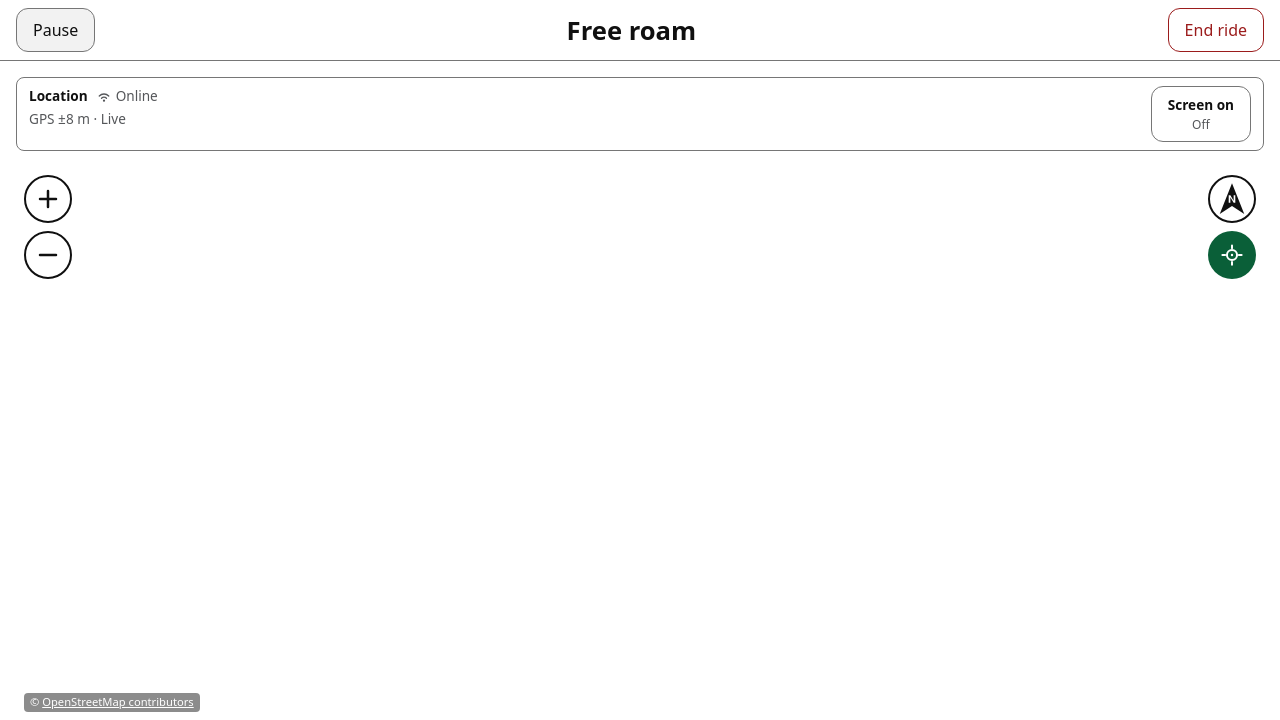
Test: FreeRoamScreen End ride › shows a failed End's error on its own row directly beneath the header, outside End's slot (backlog item 139)
The image size is (1280, 720).
Click the button "End ride".
click(1216, 30)  # box [1168,8,1264,52]
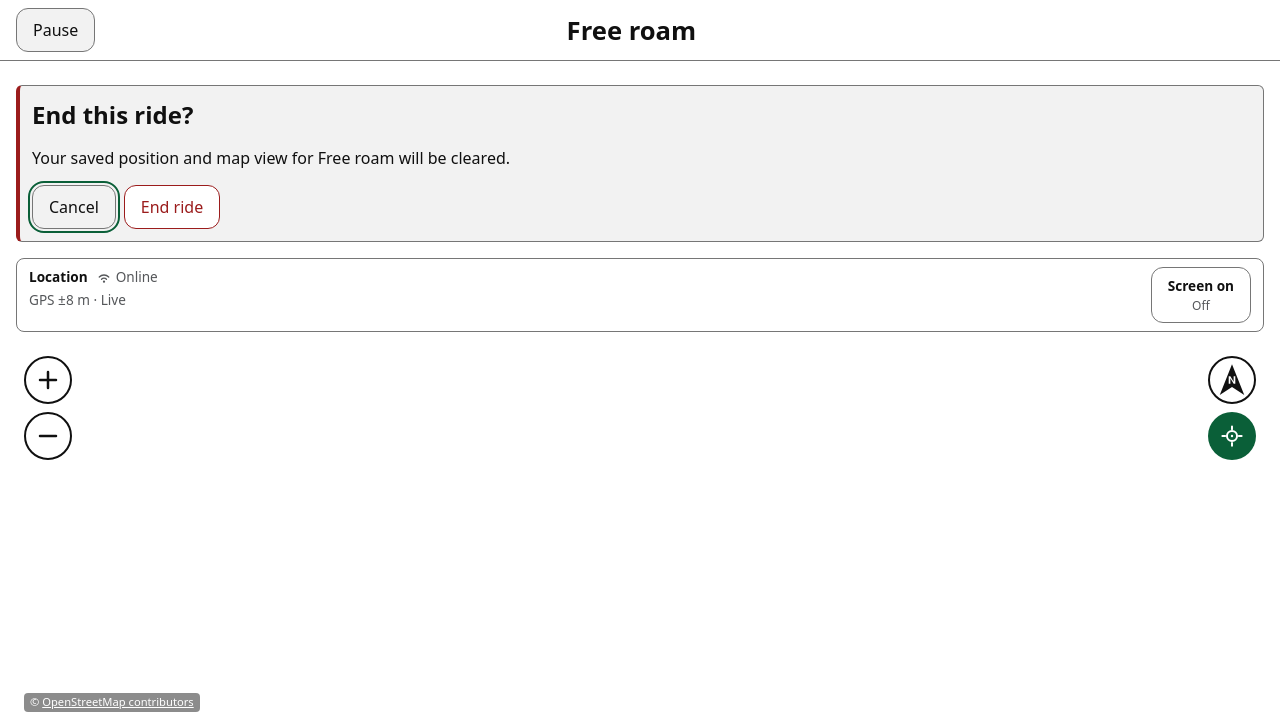
Click the button "End ride".
click(172, 207)  # box [124,185,220,229]
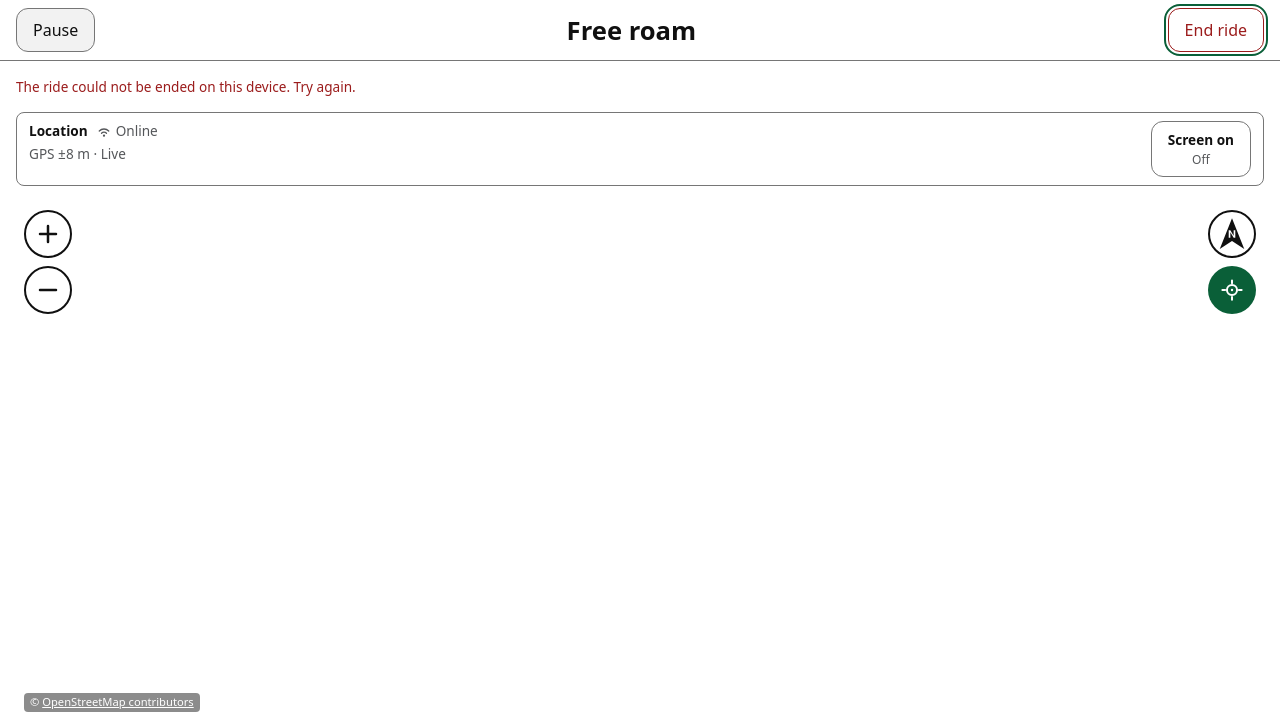
Check: the header with class "riding-immersive-header" is shown, box [0,0,1279,61]
Check: the message "The ride could not be ended on this device. Try again." is shown, box [16,77,356,96]
Click the button "End ride".
click(1216, 30)  # box [1168,8,1264,52]
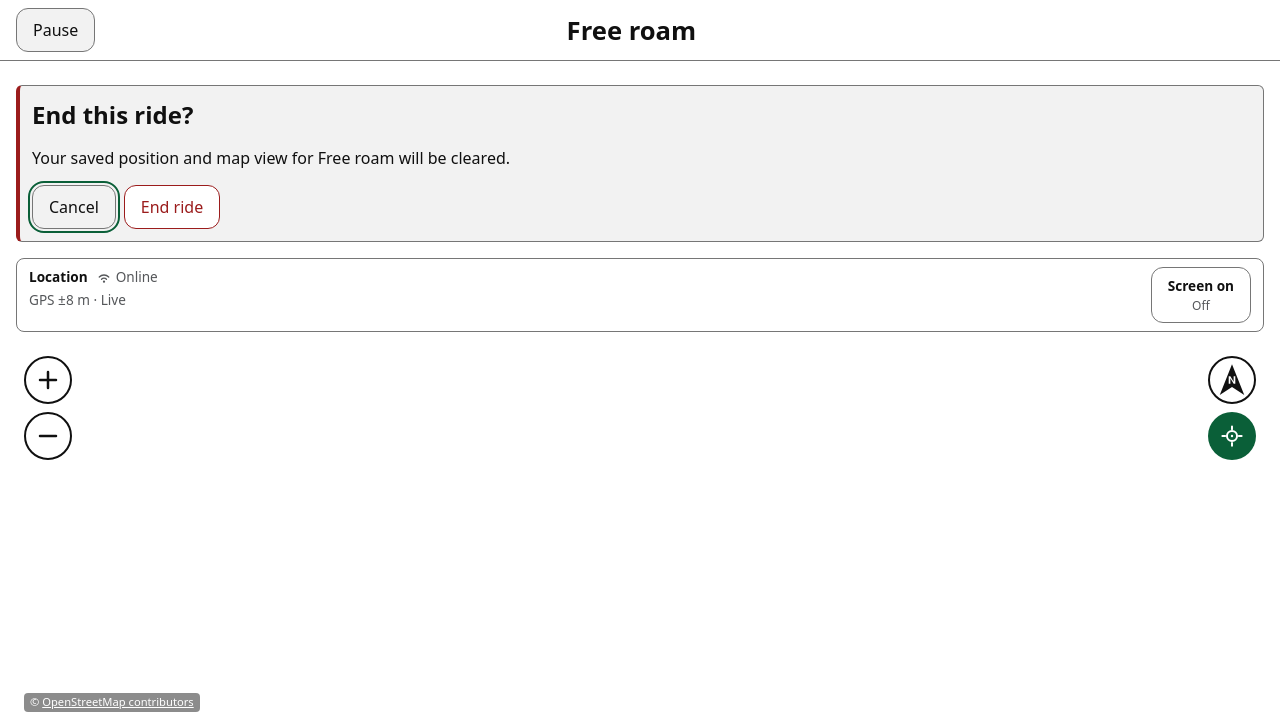
Check: the dialog is shown, box [16,85,1264,242]
Check: the message "The ride could not be ended on this device. Try again." is gone
